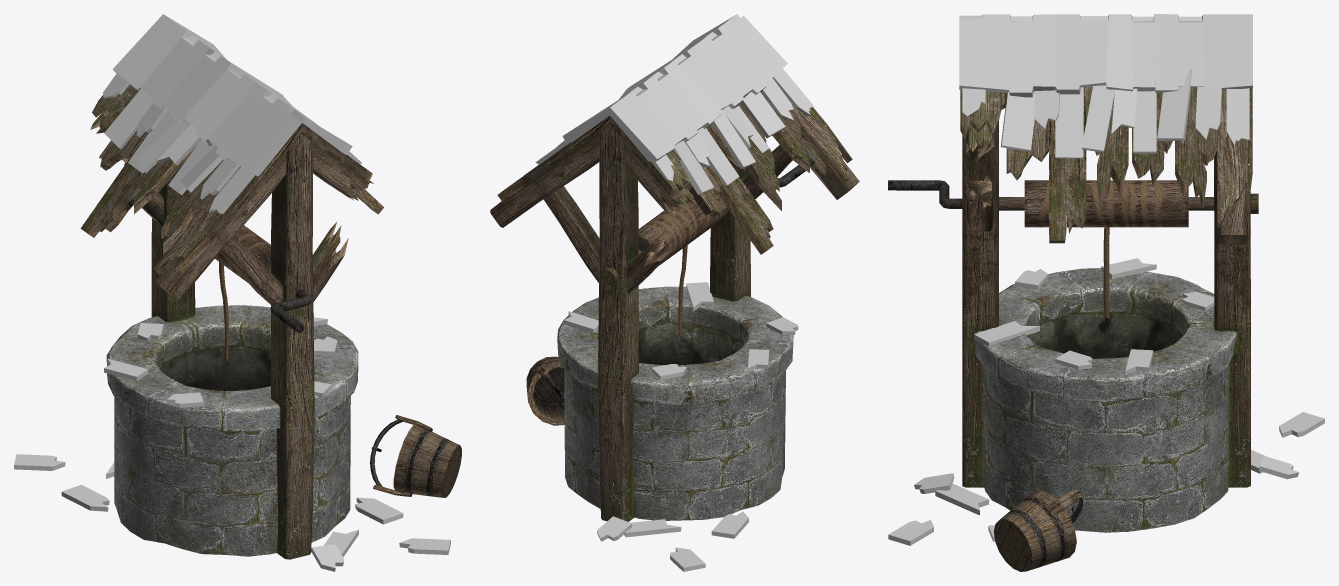
Rendered from CA_Well_Destruction_Stage2.fbx.
3 renders of one model, left to right at view 1: azimuth 30°, elevation 25°; view 2: azimuth 150°, elevation 25°; view 3: azimuth 270°, elevation 25°, orthographic. The views are drawn at different scales.
Visible parts, largest first — view 1: CA_Well_Destruction_Stage2; view 2: CA_Well_Destruction_Stage2; view 3: CA_Well_Destruction_Stage2.
Part boxes in pixels (x1,y1,x2,y2): CA_Well_Destruction_Stage2: [14, 14, 461, 571]; CA_Well_Destruction_Stage2: [490, 14, 859, 571]; CA_Well_Destruction_Stage2: [888, 14, 1324, 571].
Size of the model in its own units: 229 by 298 by 252.
